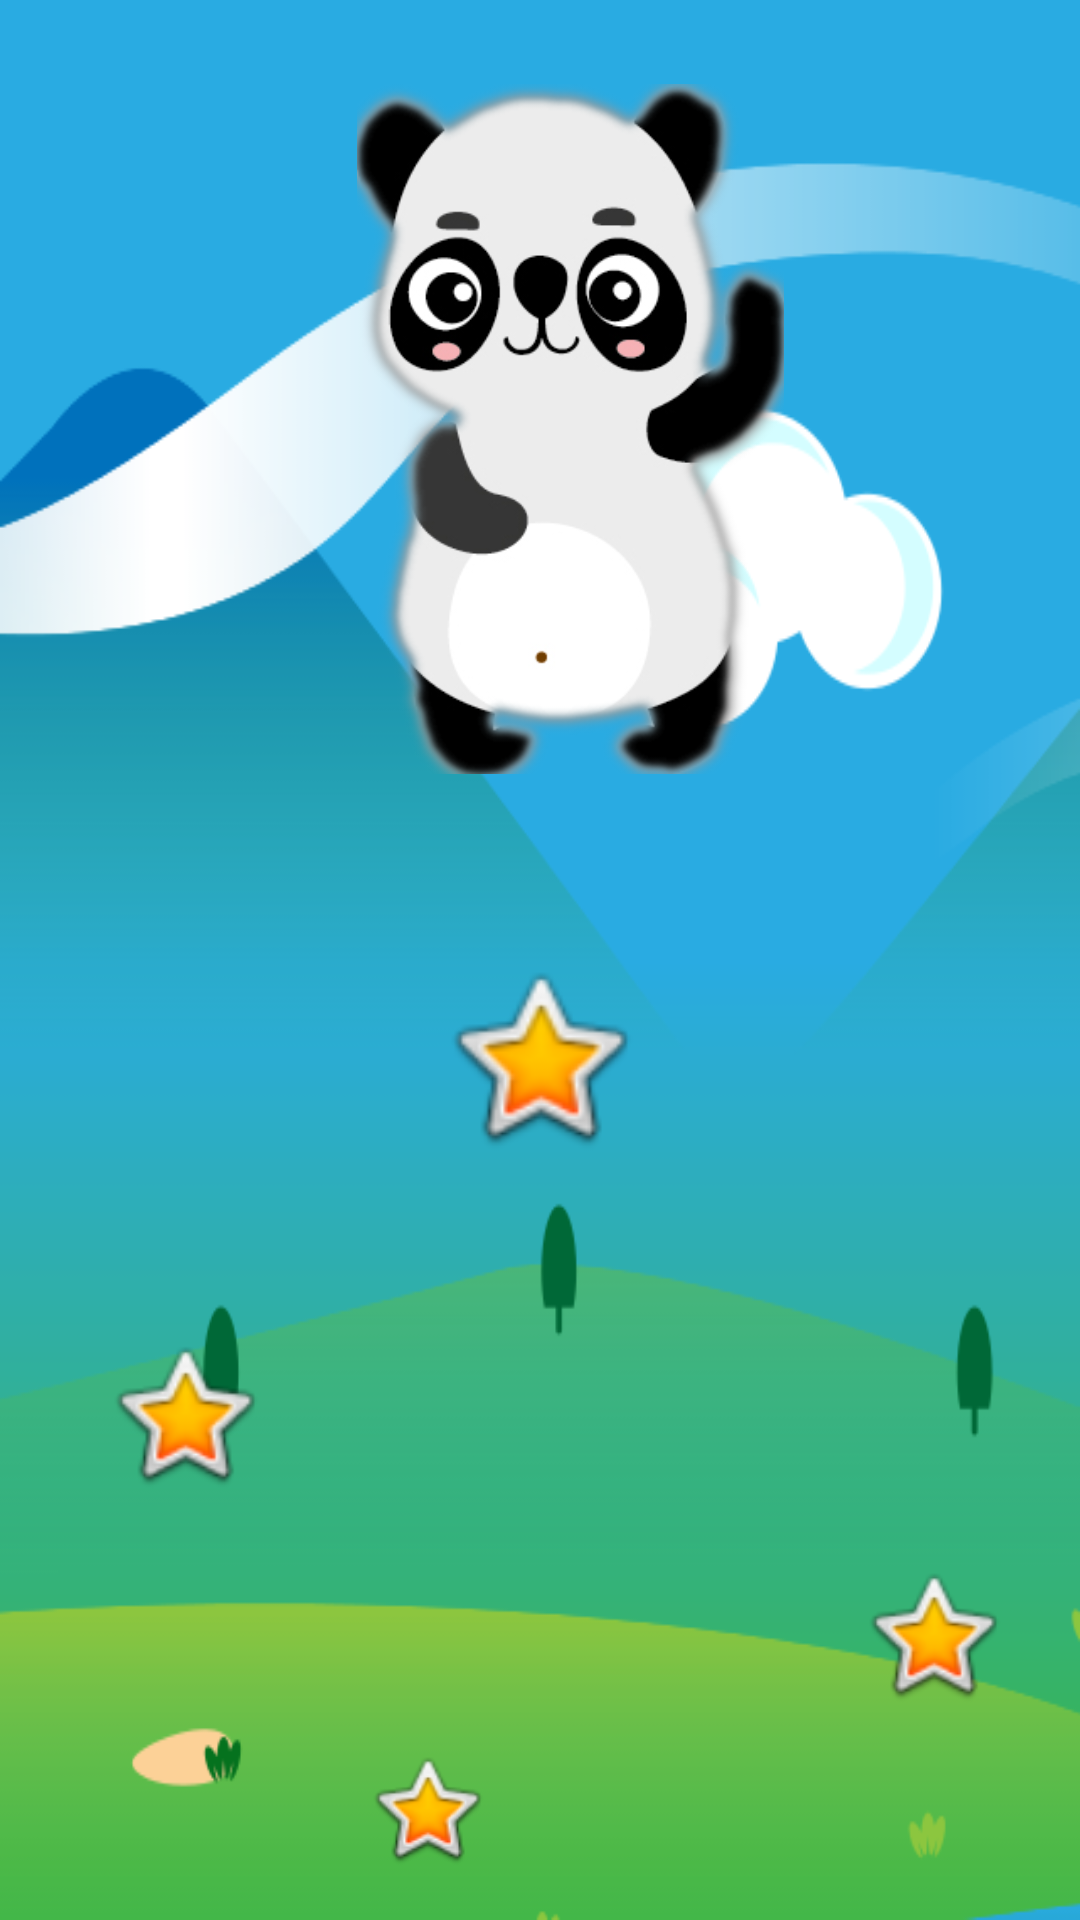

Where icons sit on this 1080 x 1920 app screen, as (x1, y1, x2, y2):
star on: (456, 975, 627, 1144), (72, 1332, 258, 1482), (846, 1576, 1020, 1710), (376, 1760, 480, 1861)
